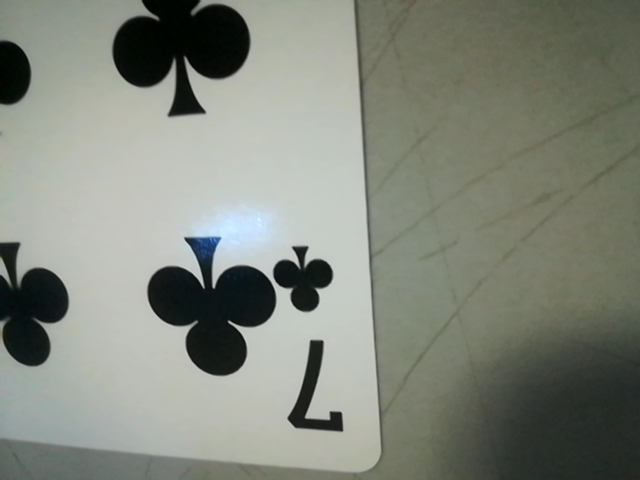mh 7: (263, 236, 362, 448)
